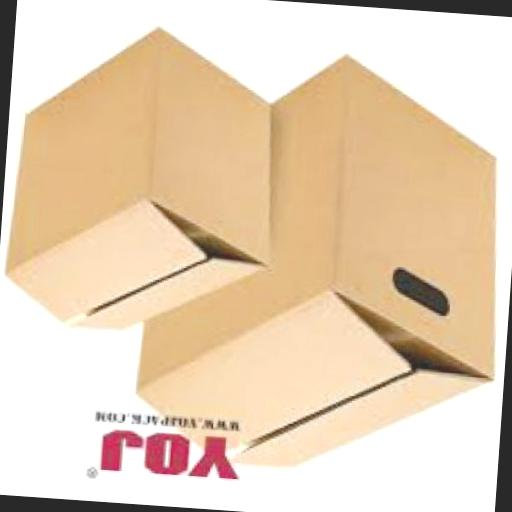cardboard: (135, 45, 512, 486), (6, 22, 288, 345)
